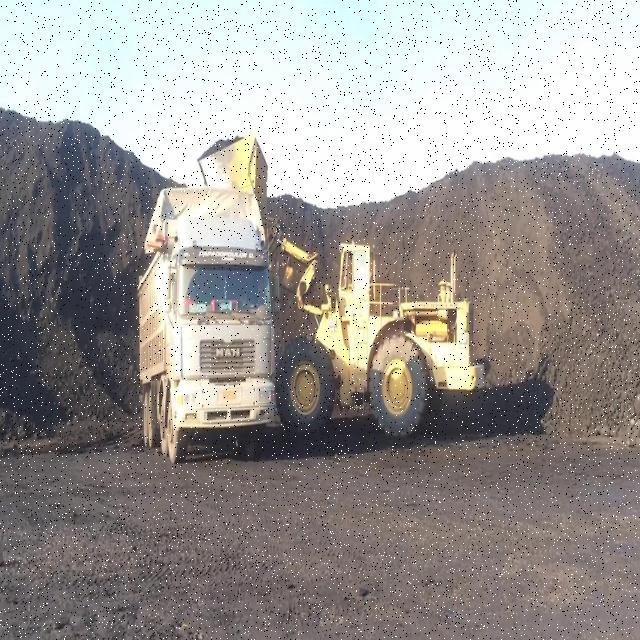Dump Truck: (134, 183, 280, 464)
Loader: (198, 132, 486, 442)
